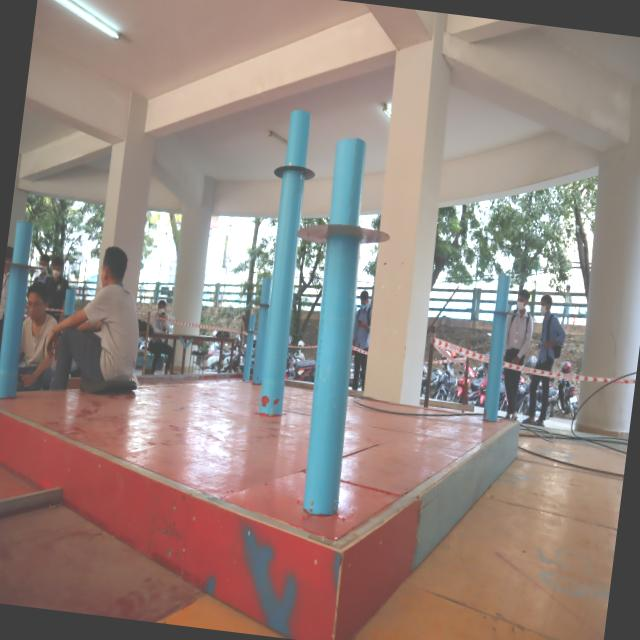pole: (292, 132, 402, 293), (264, 105, 324, 204), (1, 220, 44, 304), (482, 271, 524, 337)
